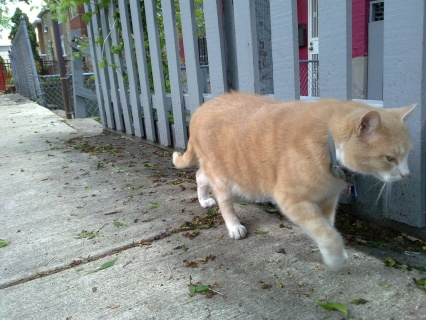Cat: (171, 87, 419, 271)
